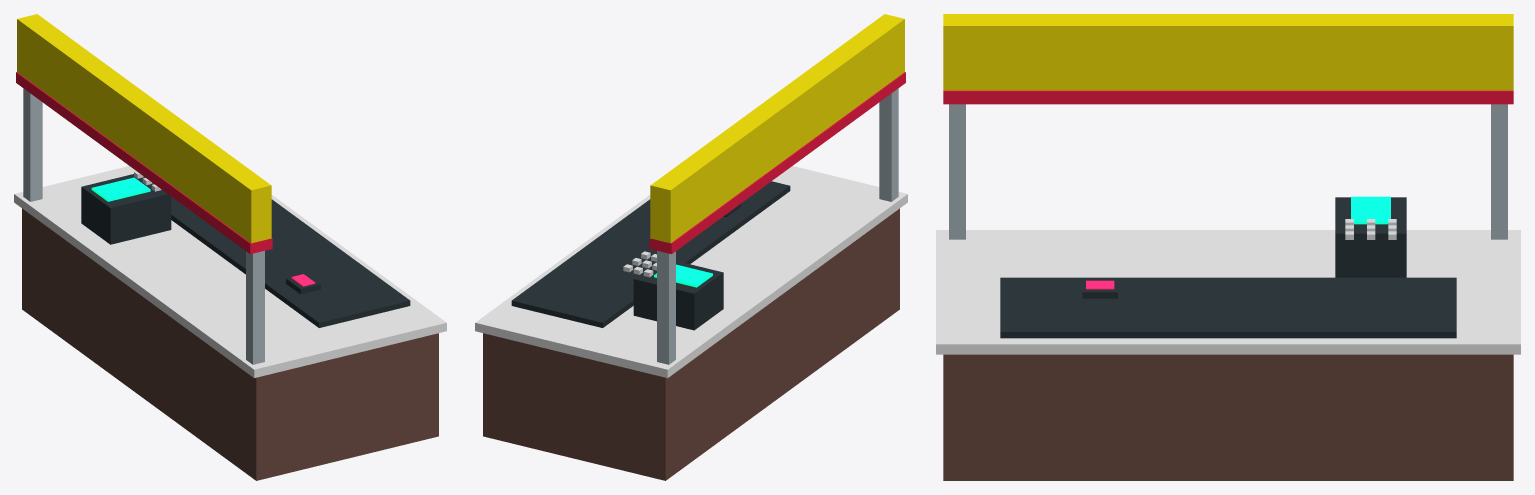
The model's file is counter.glb.
3 views of the same model, side by side, from view 1: azimuth 30°, elevation 25°; view 2: azimuth 150°, elevation 25°; view 3: azimuth 270°, elevation 25° (orthographic). The views are drawn at different scales.
Parts seen in each view (by area): view 1: Body, Top, SignBoard, Belt, RegBody, SignStripe, Post.001, Post, Screen; view 2: Body, Top, SignBoard, Belt, RegBody, SignStripe, Post, Post.001, Screen; view 3: Body, SignBoard, Top, Belt, SignStripe, RegBody, Post, Post.001, Screen.
Boxes of the visible parts, <box> form: Body: <box>22,208,438,480</box>; Top: <box>14,166,446,378</box>; SignBoard: <box>17,14,271,243</box>; Belt: <box>171,197,410,327</box>; RegBody: <box>81,174,171,244</box>; SignStripe: <box>16,72,272,254</box>; Post.001: <box>246,250,264,364</box>; Post: <box>23,88,42,201</box>; Screen: <box>91,177,150,201</box>; Body: <box>483,208,899,480</box>; Top: <box>475,166,907,378</box>; SignBoard: <box>650,14,904,243</box>; Belt: <box>511,181,790,327</box>; RegBody: <box>633,261,723,330</box>; SignStripe: <box>649,72,905,254</box>; Post: <box>657,250,675,364</box>; Post.001: <box>879,88,898,201</box>; Screen: <box>654,264,712,287</box>; Body: <box>943,354,1513,480</box>; SignBoard: <box>943,14,1513,90</box>; Top: <box>936,230,1520,354</box>; Belt: <box>1000,277,1456,338</box>; SignStripe: <box>943,90,1513,104</box>; RegBody: <box>1335,197,1406,277</box>; Post: <box>1491,104,1507,239</box>; Post.001: <box>949,104,965,239</box>; Screen: <box>1351,196,1390,224</box>.
Size of the model in its own units: 1.91 by 2.75 by 4.1.
